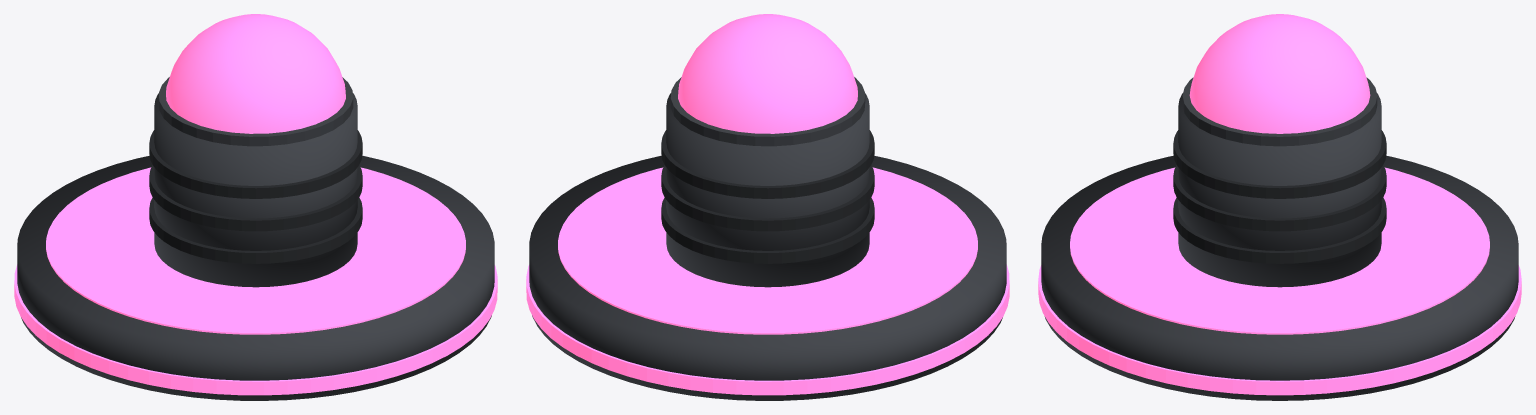
The model's file is rebatedor_cyber_baseball_p1.glb.
3 renders of one model, left to right at view 1: azimuth 30°, elevation 25°; view 2: azimuth 150°, elevation 25°; view 3: azimuth 270°, elevation 25°, orthographic.
Parts seen in each view (by area): view 1: Cylinder.002, Cylinder, Cylinder.003, Sphere, Cylinder.001, Cylinder.006, Cylinder.004, Cylinder.005, Cylinder.007; view 2: Cylinder.002, Cylinder, Cylinder.003, Sphere, Cylinder.001, Cylinder.006, Cylinder.004, Cylinder.005, Cylinder.007; view 3: Cylinder.002, Cylinder, Cylinder.003, Sphere, Cylinder.001, Cylinder.006, Cylinder.004, Cylinder.005, Cylinder.007.
Part boxes in pixels (<box>): Cylinder.002: <box>46,167,465,334</box>; Cylinder: <box>17,155,494,400</box>; Cylinder.003: <box>154,93,357,287</box>; Sphere: <box>166,14,345,133</box>; Cylinder.001: <box>14,264,497,395</box>; Cylinder.006: <box>149,130,362,198</box>; Cylinder.004: <box>149,197,362,263</box>; Cylinder.005: <box>149,165,362,231</box>; Cylinder.007: <box>158,77,353,146</box>; Cylinder.002: <box>558,167,977,334</box>; Cylinder: <box>529,155,1006,400</box>; Cylinder.003: <box>666,93,869,287</box>; Sphere: <box>678,14,857,133</box>; Cylinder.001: <box>526,264,1009,395</box>; Cylinder.006: <box>661,130,874,198</box>; Cylinder.004: <box>661,197,874,263</box>; Cylinder.005: <box>661,165,874,231</box>; Cylinder.007: <box>670,77,865,146</box>; Cylinder.002: <box>1070,167,1489,334</box>; Cylinder: <box>1041,155,1518,400</box>; Cylinder.003: <box>1178,93,1381,287</box>; Sphere: <box>1189,14,1370,133</box>; Cylinder.001: <box>1038,265,1521,395</box>; Cylinder.006: <box>1173,130,1386,198</box>; Cylinder.004: <box>1173,197,1386,263</box>; Cylinder.005: <box>1173,165,1386,231</box>; Cylinder.007: <box>1182,77,1377,146</box>.
Size of the model in its own units: 0.1619 by 0.1032 by 0.1619.
